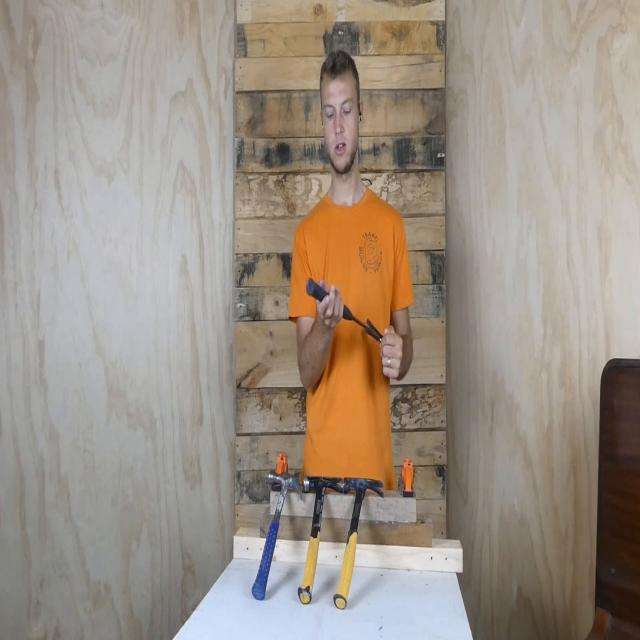hammer: (324, 472, 390, 607), (291, 460, 344, 608), (252, 470, 305, 608), (303, 268, 385, 350)
